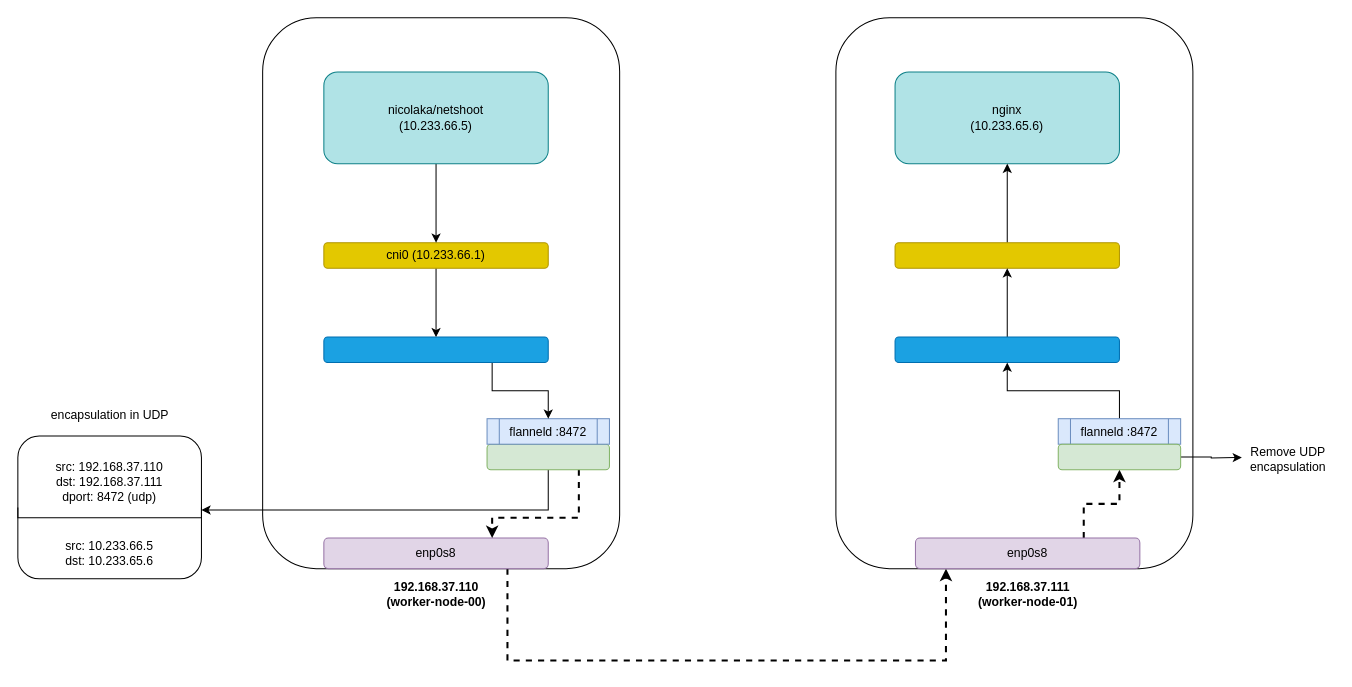
This 1352x687 diagram has some shape labels left out. The box of each missing label's shape, as (x1, y1, x2, y2) in pixels:
cni0 (10.233.65.1): (894, 242, 1119, 268)
flannel.1 (10.233.65.0): (894, 336, 1119, 363)
flannel.1 (10.233.66.0): (323, 336, 548, 363)
